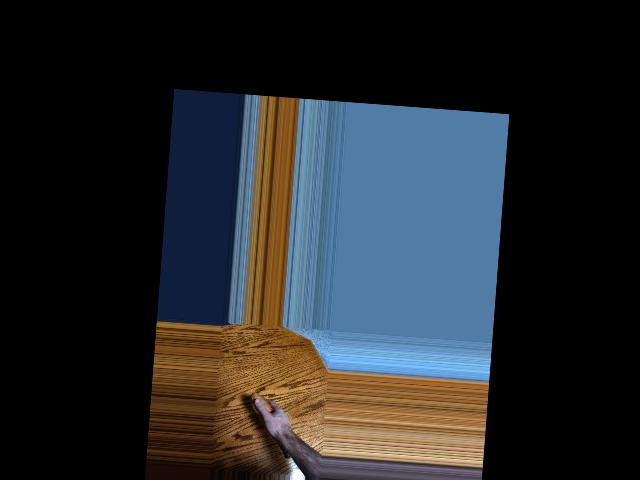sweet_potato: (245, 392, 296, 460)
